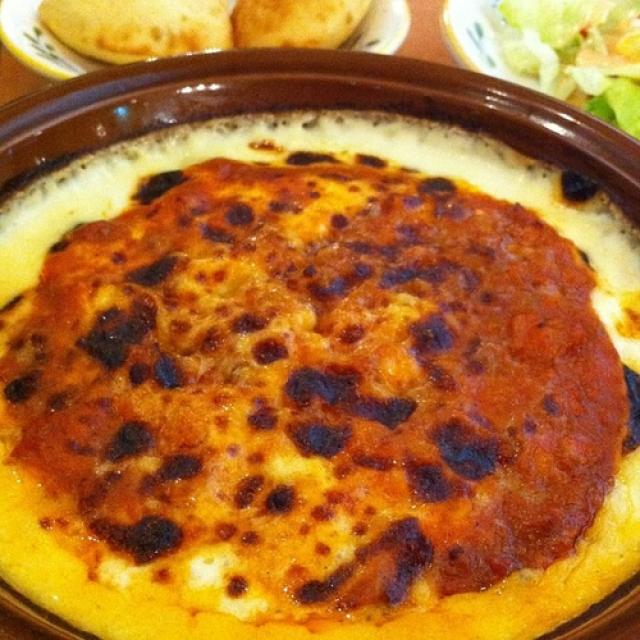米饭主食: (15, 55, 628, 626)
